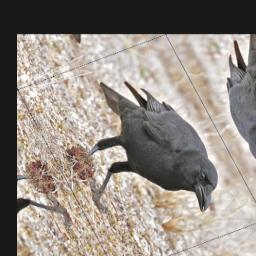Crow: (41, 60, 234, 245)
